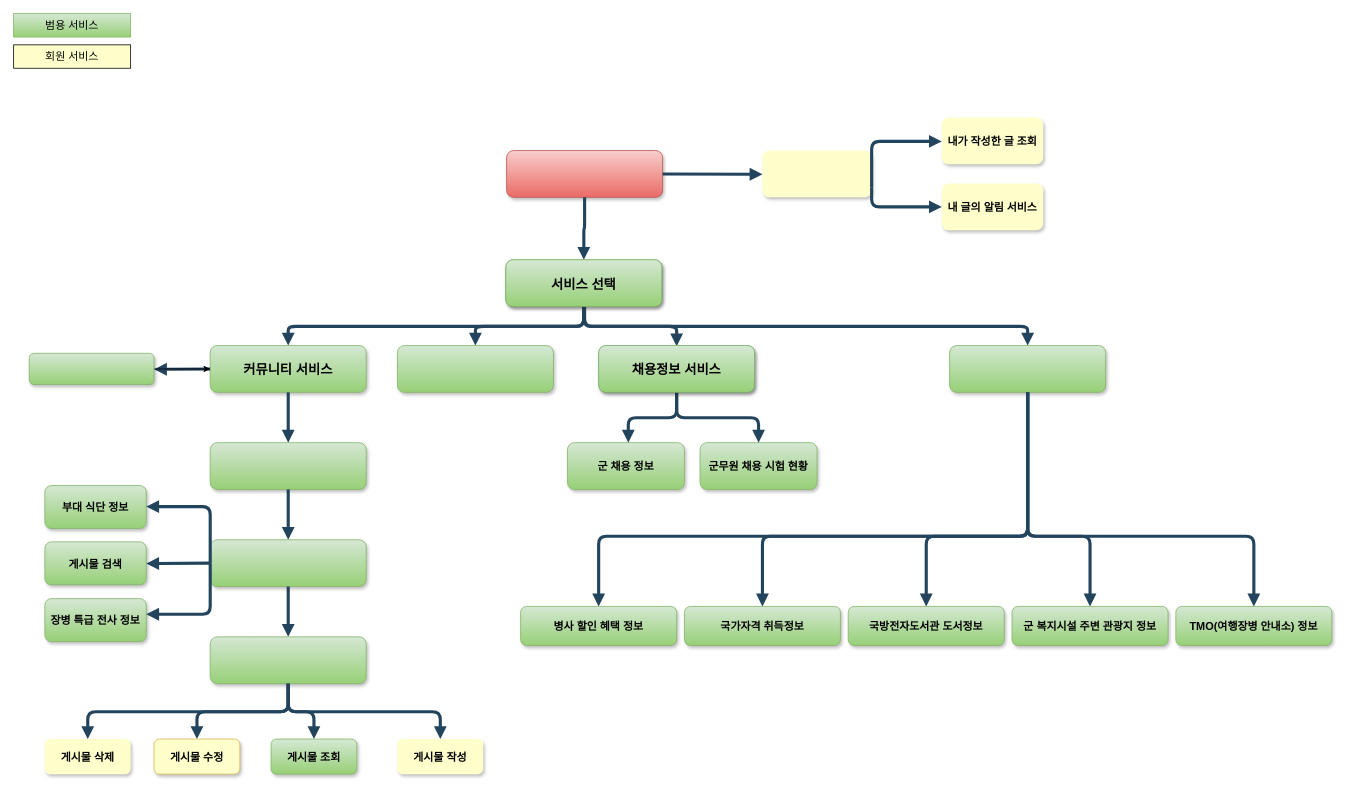
The diagram is 1350 pixels wide and 793 high, and some of its shapes have lost their labels. Here are the shapes that lost their labels. From the top down, the centre of each, then its label:
At [585,175]: "플랫폼 시작".
At [817,174]: "마이페이지".
At [92,369]: "PX인기 상품 정보".
At [476,370]: "통합 검색".
At [1028,370]: "혜택존".
At [288,467]: "부대 찾기".
At [288,564]: "부대 게시판".
At [288,661]: "게시물 보기".
